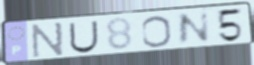5: (214, 7, 244, 43)
8: (104, 17, 137, 53)
N: (176, 10, 212, 48), (31, 20, 65, 60)
O: (140, 15, 174, 49)
U: (67, 20, 100, 55)
